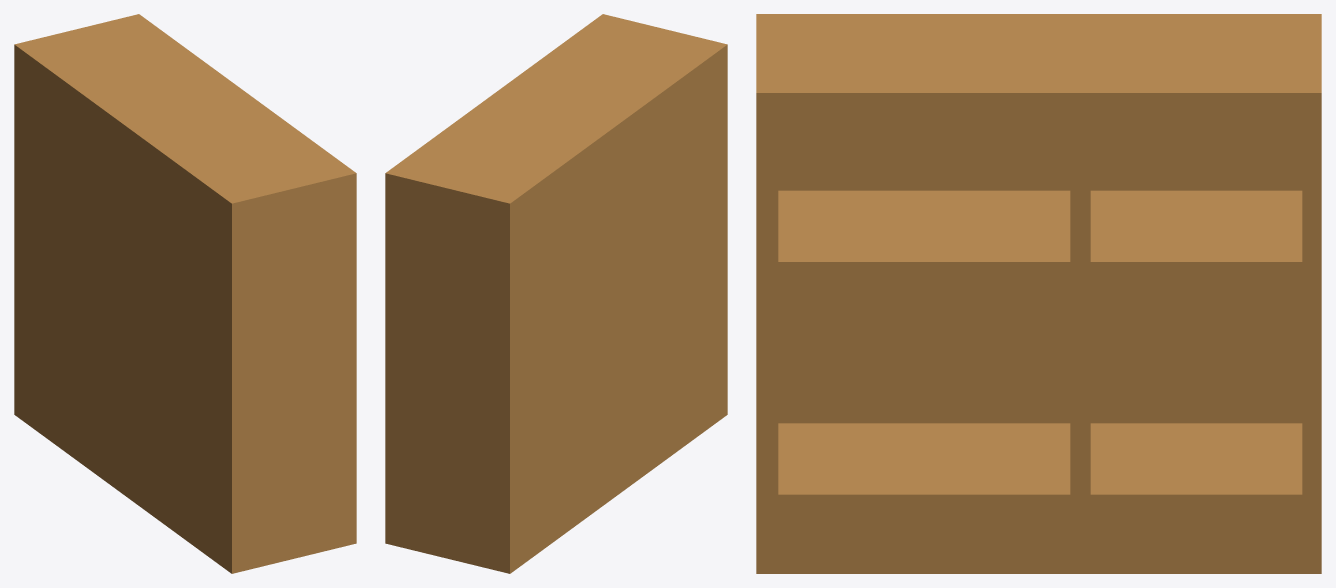
File: Rak_buku.fbx
3 views of the same model, side by side, from view 1: azimuth 30°, elevation 25°; view 2: azimuth 150°, elevation 25°; view 3: azimuth 270°, elevation 25° (orthographic). The views are drawn at different scales.
Visible parts, largest first — view 1: Cube.004; view 2: Cube.004; view 3: Cube.004.
Part boxes in pixels (x1,y1,x2,y2): Cube.004: (14, 14, 356, 573); Cube.004: (385, 14, 727, 573); Cube.004: (756, 14, 1321, 573).
Size of the model in its own units: 200 by 567 by 604.
